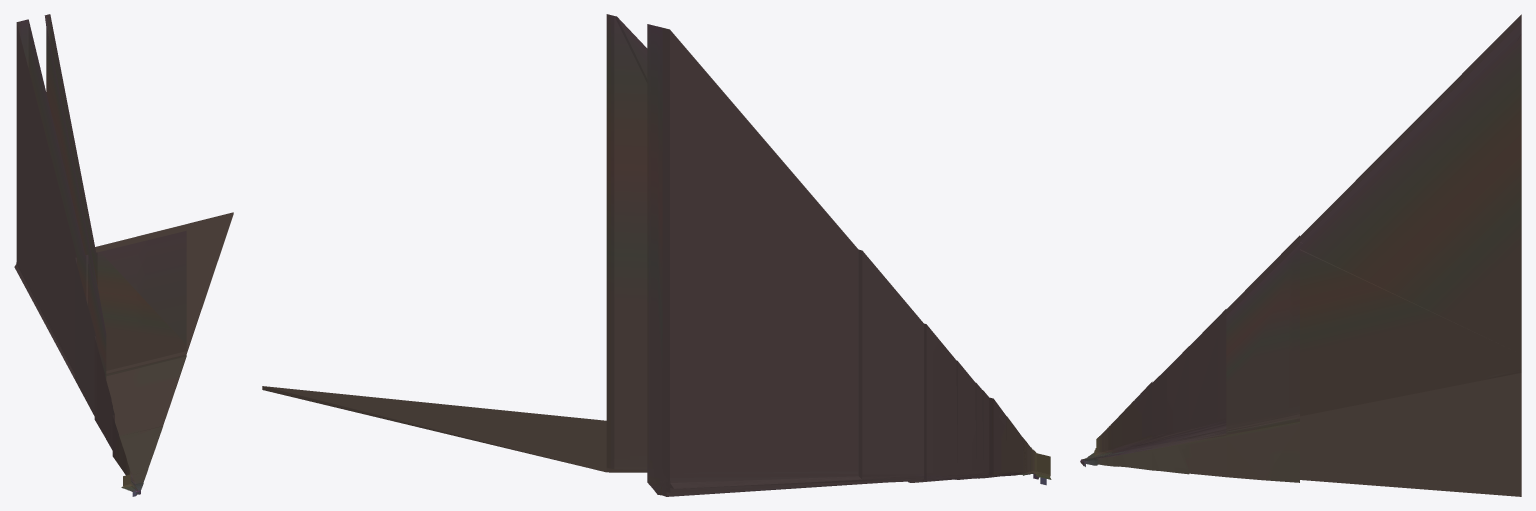
3 renders of one model, left to right at view 1: azimuth 30°, elevation 25°; view 2: azimuth 150°, elevation 25°; view 3: azimuth 270°, elevation 25°, orthographic. The views are drawn at different scales.
Size of the model in its own units: 245 by 306 by 255.
Materials: 2 (2 with a texture image).
